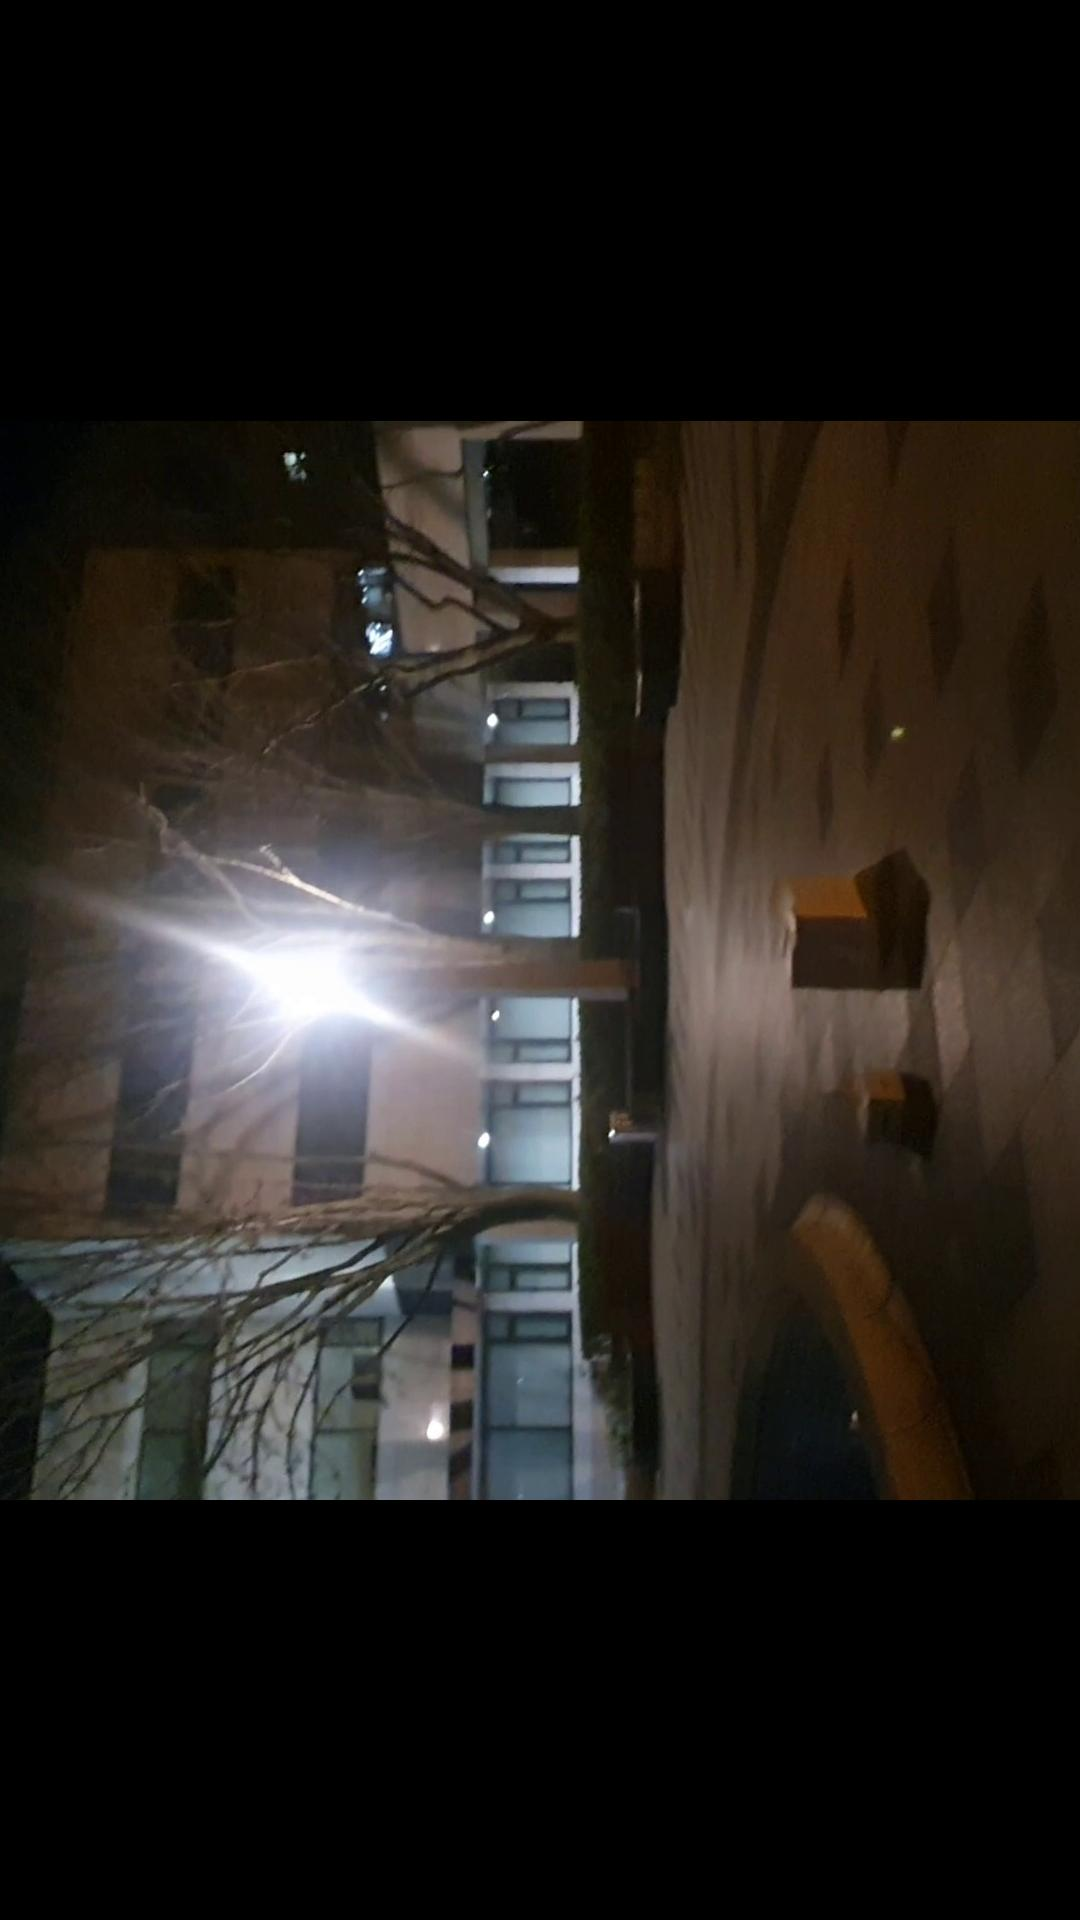Box: (764, 862, 878, 997), (860, 1062, 916, 1159)
